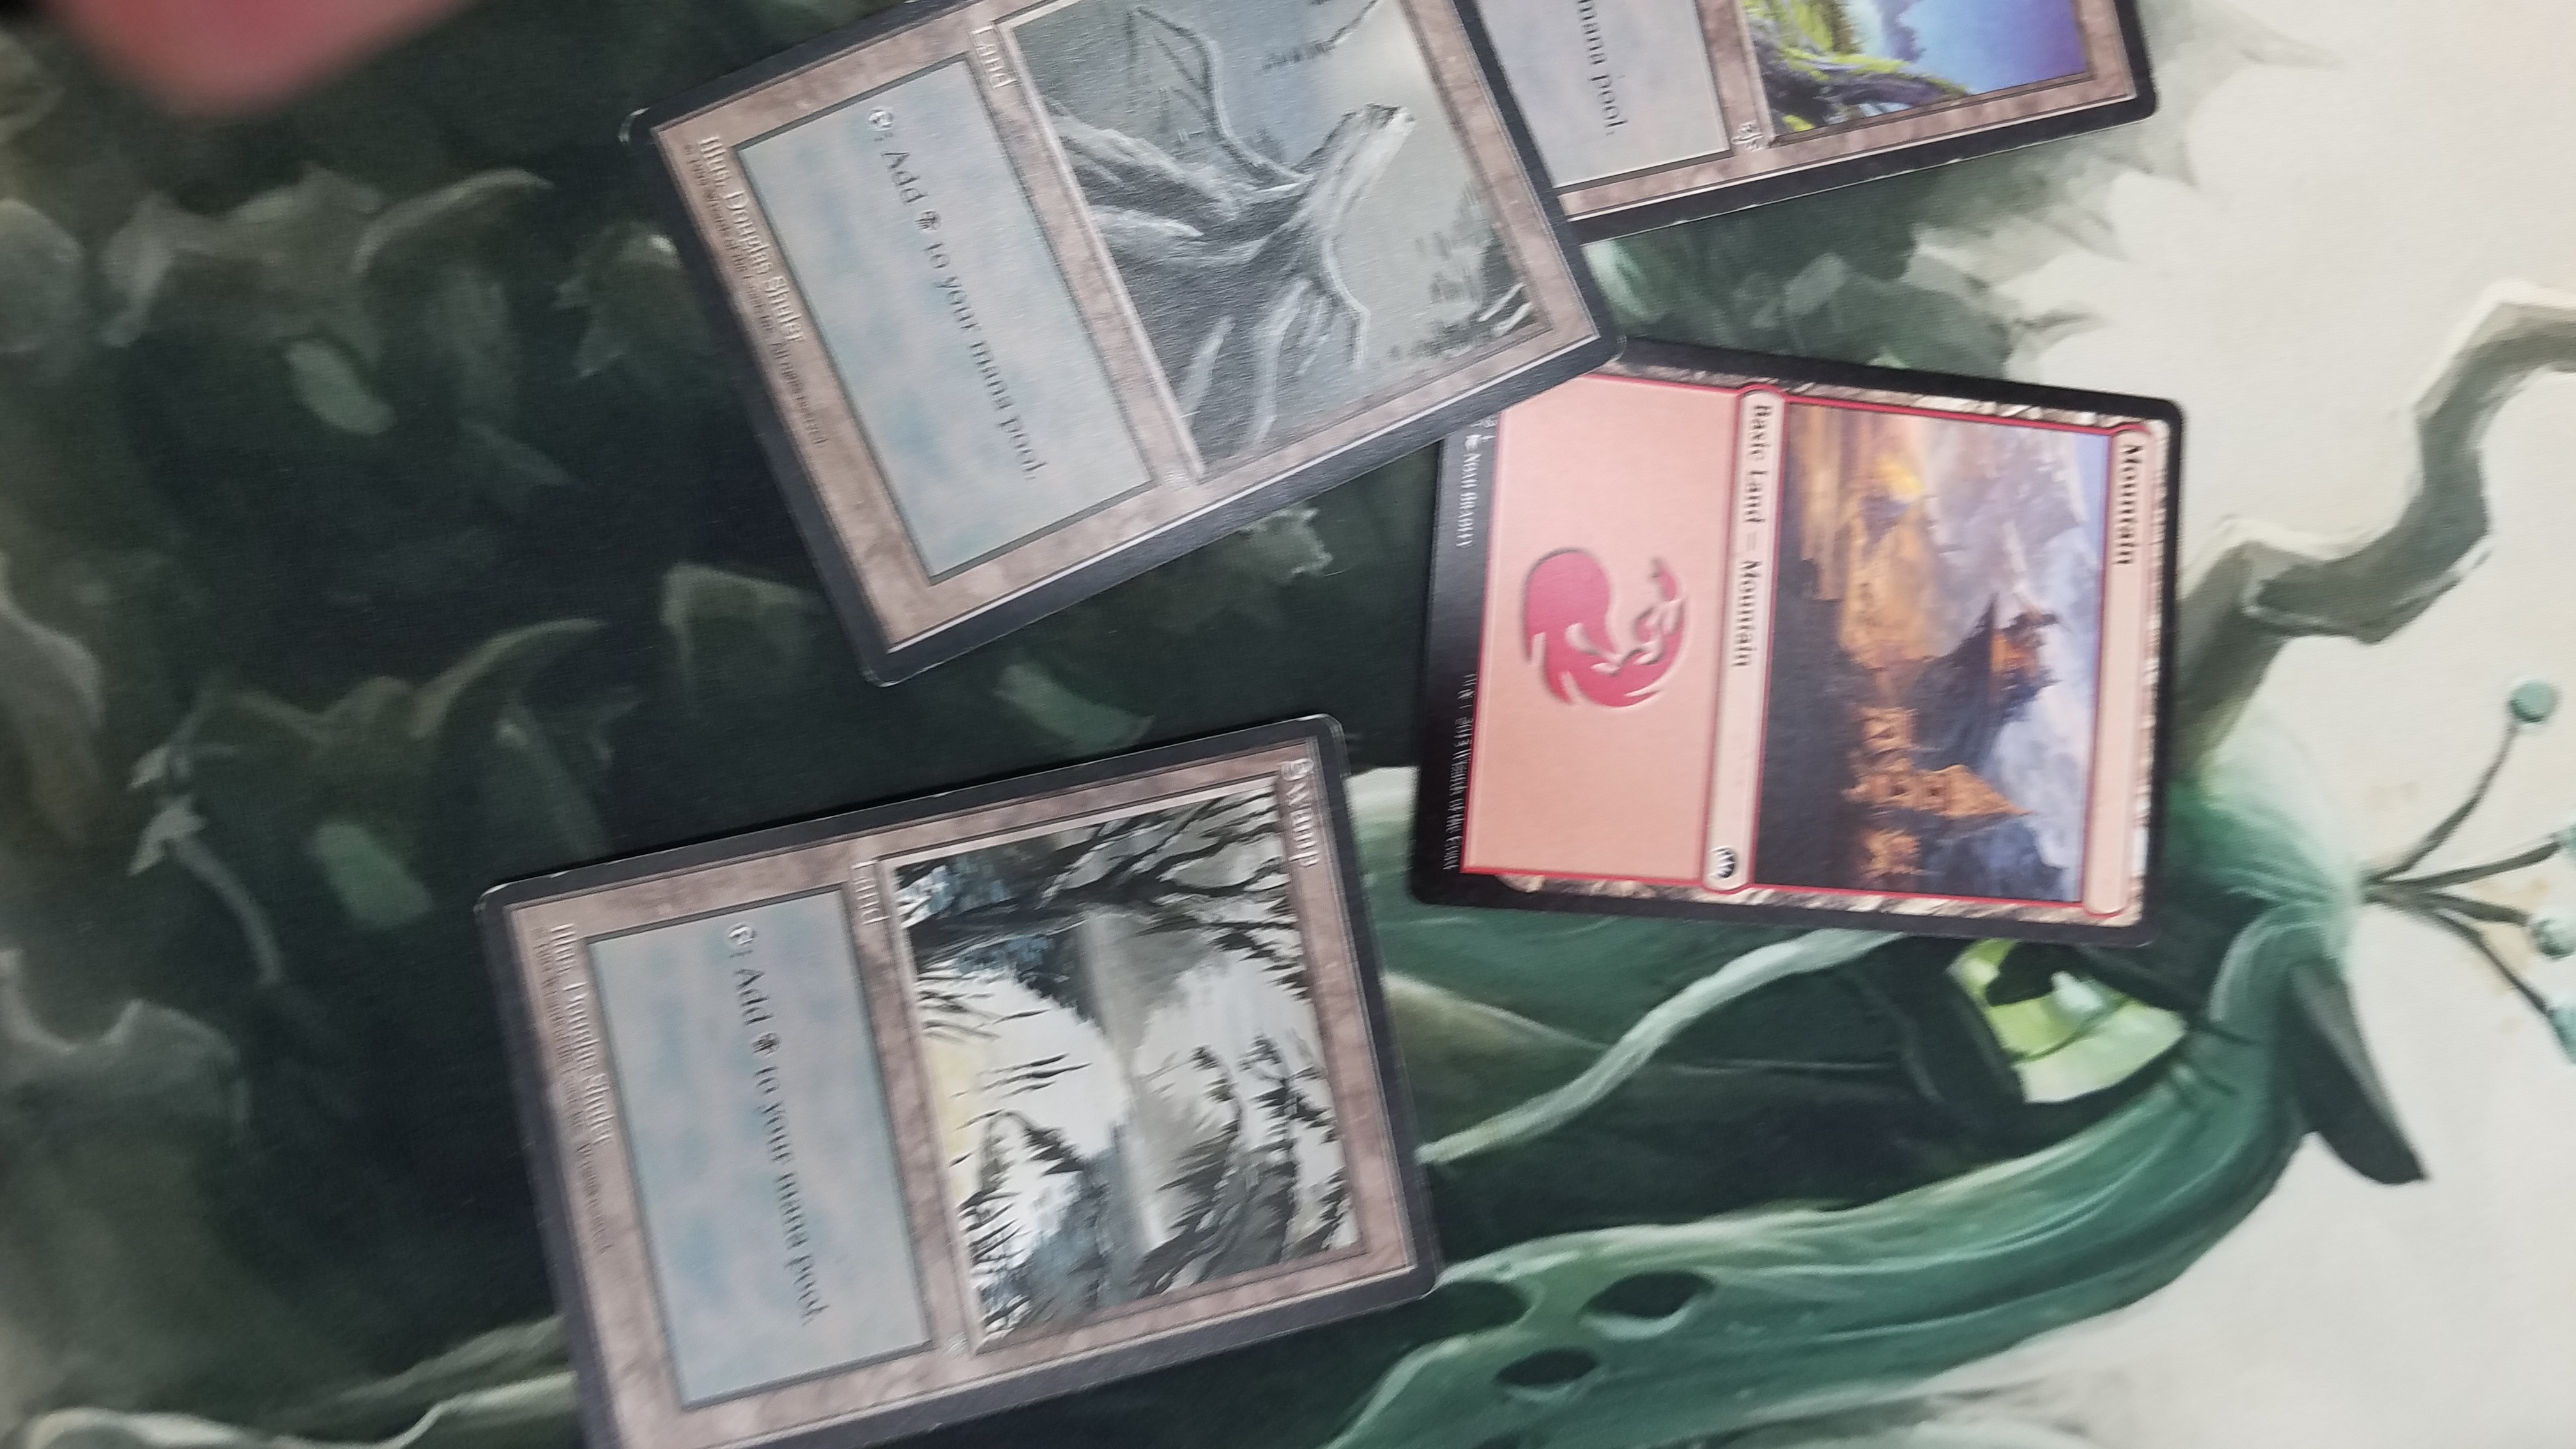Card: (458, 708, 1463, 1449), (1407, 313, 2196, 952)
